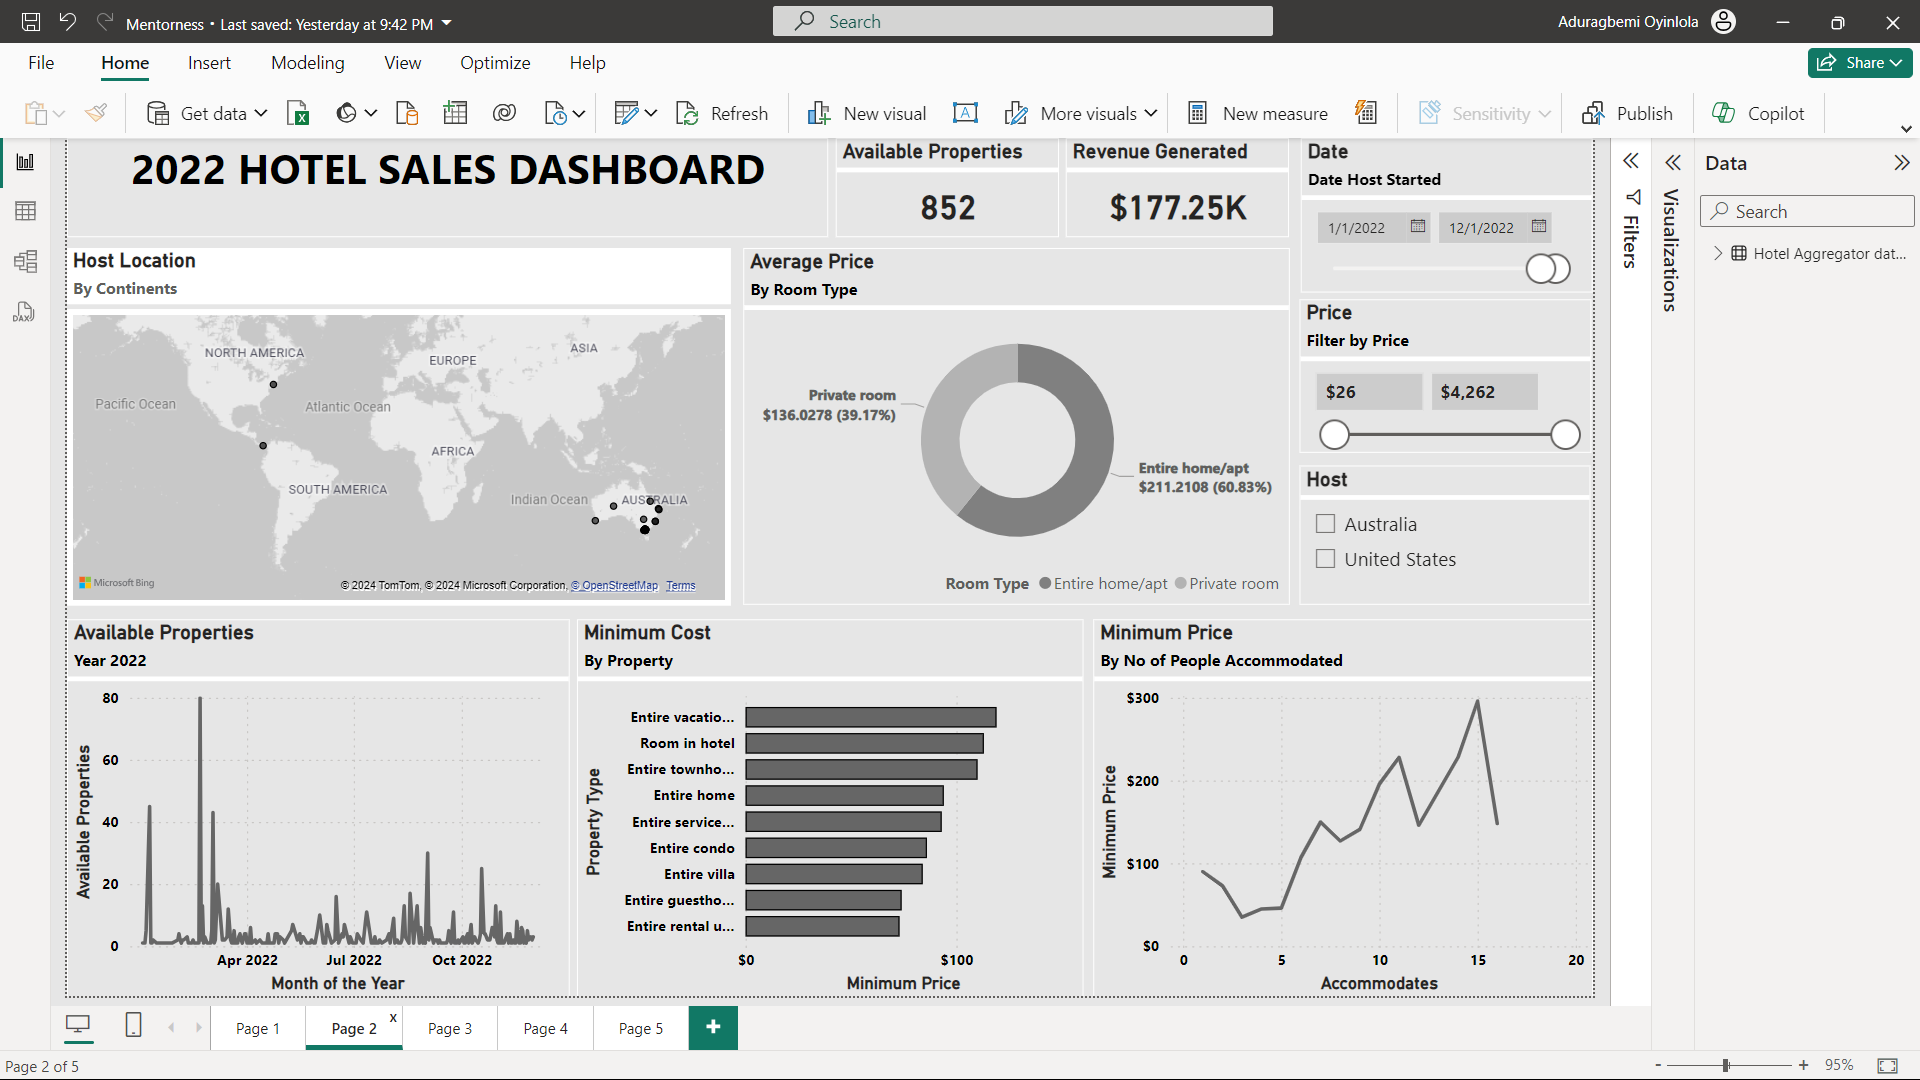

The dashboard page shown, as its layout file describes it:
{"tool":"powerbi","page":{"name":"Page 2","canvas":[1280,720],"ordinal":1},"visuals":[{"type":"barChart","title":"Minimum Cost","fields":{"Category":["Hotel Aggregator dataset.property_type"],"Y":["Min(Hotel Aggregator dataset.price)"]},"box":[427.5,403.5,425.1,317],"z":0},{"type":"slicer","title":"Price","fields":{"Values":["Hotel Aggregator dataset.price"]},"box":[1034,135,245,128.5],"z":1000},{"type":"donutChart","title":"Average Price","fields":{"Category":["Hotel Aggregator dataset.room_type"],"Y":["Avg(Hotel Aggregator dataset.price)"]},"box":[566.8,92.5,458.7,299],"z":2000},{"type":"lineChart","title":"Minimum Price","fields":{"Category":["Hotel Aggregator dataset.accommodates"],"Y":["Min(Hotel Aggregator dataset.price)"]},"box":[860.9,403.5,419.1,317],"z":3000},{"type":"lineChart","title":"Available Properties","fields":{"Category":["Hotel Aggregator dataset.host_since.Variation.Date Hierarchy.Year","Hotel Aggregator dataset.host_since.Variation.Date Hierarchy.Month","Hotel Aggregator dataset.host_since.Variation.Date Hierarchy.Day"],"Y":["CountNonNull(Hotel Aggregator dataset.availability_365)"]},"box":[0,403.5,421.5,317],"z":4000},{"type":"slicer","title":"Date","fields":{"Values":["Hotel Aggregator dataset.host_since"]},"box":[1035,0,245,129.7],"z":5000},{"type":"textbox","title":"2022 HOTEL SALES DASHBOARD","box":[0,0,638,82.9],"z":6000},{"type":"map","title":"Host Location","fields":{"Category":["Hotel Aggregator dataset.host_location"]},"box":[0,92.5,557.1,300.2],"z":7000},{"type":"card","title":"Revenue Generated","fields":{"Values":["Sum(Hotel Aggregator dataset.price)"]},"box":[838.1,0,187.3,82.9],"z":8000},{"type":"slicer","title":"Host ","fields":{"Values":["Hotel Aggregator dataset.country"]},"box":[1033.8,275,243.8,116.5],"z":9000},{"type":"card","title":"Available Properties","fields":{"Values":["CountNonNull(Hotel Aggregator dataset.availability_365)"]},"box":[645,0,187.3,82.9],"z":10000}]}

Visuals, with their boxes on the page's 1280x720 design canvas (x1, y1, x2, y2). These are canvas units, not pixel positions in the 1920x1080 screenshot, which may show the page scaled, cropped or inside an application window:
"Minimum Cost" barChart: detection(428, 404, 853, 720)
"Price" slicer: detection(1034, 135, 1279, 264)
"Average Price" donutChart: detection(567, 92, 1026, 392)
"Minimum Price" lineChart: detection(861, 404, 1280, 720)
"Available Properties" lineChart: detection(0, 404, 422, 720)
"Date" slicer: detection(1035, 0, 1280, 130)
"2022 HOTEL SALES DASHBOARD" textbox: detection(0, 0, 638, 83)
"Host Location" map: detection(0, 92, 557, 393)
"Revenue Generated" card: detection(838, 0, 1025, 83)
"Host " slicer: detection(1034, 275, 1278, 392)
"Available Properties" card: detection(645, 0, 832, 83)
